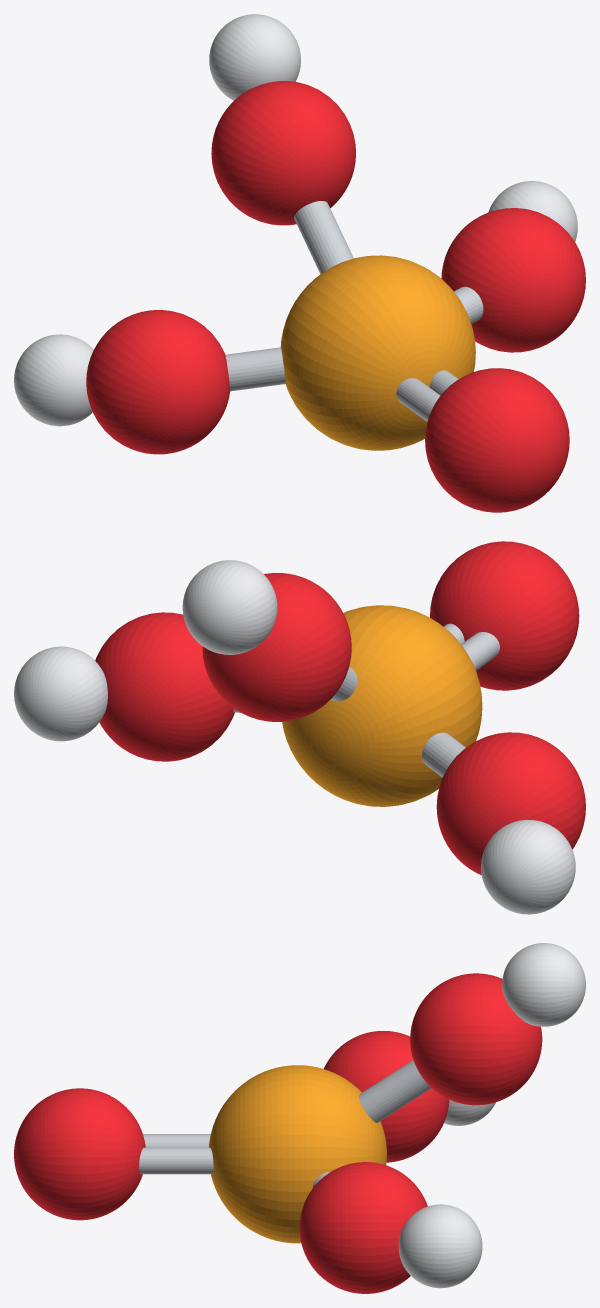
File: phosphoric_acid.glb
3 renders of one model, top to bottom at view 1: azimuth 30°, elevation 25°; view 2: azimuth 150°, elevation 25°; view 3: azimuth 270°, elevation 25°, orthographic. The views are drawn at different scales.
Parts seen in each view (by area): view 1: P, O_top, O_left, O_bottom, O_right, H_left, H_bottom, P_O_bottom, H_right, P_O_left, P_O_top_double_1, P_O_right; view 2: P, O_top, O_right, O_left, O_bottom, H_bottom, H_left, H_right, P_O_left, P_O_top_double_1; view 3: P, O_top, O_bottom, O_right, O_left, H_right, H_bottom, P_O_bottom, P_O_top_double_2, P_O_top_double_1, H_left.
Boxes of the visible parts, x1,y1,x2,y2 form: P: (280, 255, 475, 450); O_top: (425, 368, 569, 512); O_left: (86, 310, 230, 454); O_bottom: (211, 81, 355, 225); O_right: (441, 208, 585, 352); H_left: (14, 334, 93, 426); H_bottom: (209, 14, 300, 100); P_O_bottom: (294, 201, 353, 273); H_right: (488, 181, 577, 241); P_O_left: (225, 347, 285, 391); P_O_top_double_1: (396, 378, 440, 421); P_O_right: (454, 286, 483, 323); P: (282, 605, 482, 806); O_top: (430, 541, 579, 690); O_right: (95, 612, 234, 761); O_left: (436, 732, 585, 875); O_bottom: (202, 573, 351, 721); H_bottom: (182, 560, 277, 654); H_left: (481, 819, 575, 914); H_right: (14, 646, 107, 741); P_O_left: (422, 732, 465, 777); P_O_top_double_1: (461, 632, 499, 670); P: (209, 1065, 386, 1243); O_top: (14, 1088, 145, 1220); O_bottom: (410, 973, 542, 1105); O_right: (299, 1162, 427, 1293); O_left: (323, 1031, 449, 1162); H_right: (398, 1204, 482, 1288); H_bottom: (502, 943, 585, 1026); P_O_bottom: (359, 1060, 431, 1122); P_O_top_double_2: (139, 1147, 213, 1174); P_O_top_double_1: (143, 1134, 210, 1147); H_left: (444, 1099, 495, 1125).
Bounding box in the file's own units: 1.92 × 1.09 × 1.92.
